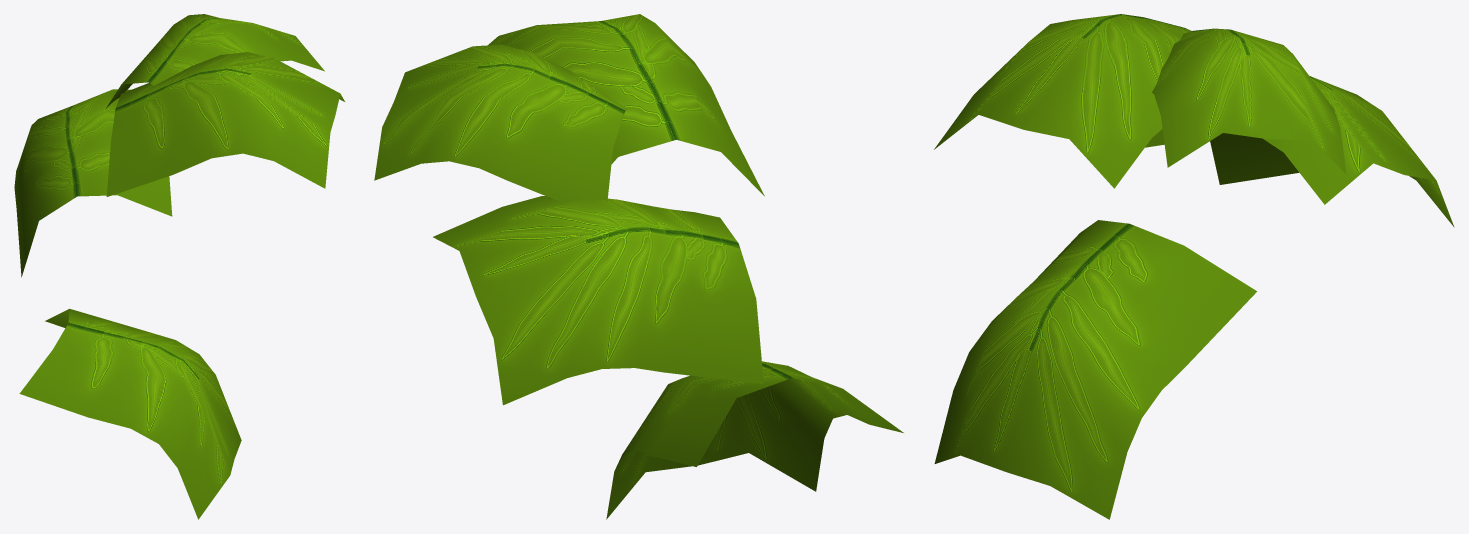
Rendered from BambooSet_part_52.fbx.
3 renders of one model, left to right at view 1: azimuth 30°, elevation 25°; view 2: azimuth 150°, elevation 25°; view 3: azimuth 270°, elevation 25°, orthographic. The views are drawn at different scales.
Visible parts, largest first — view 1: Object_86.001; view 2: Object_86.001; view 3: Object_86.001.
Part boxes in pixels (left/top/right/bottom): Object_86.001: left=14, top=14, right=344, bottom=519; Object_86.001: left=374, top=14, right=903, bottom=519; Object_86.001: left=934, top=14, right=1454, bottom=519.
Bounding box in the file's own units: 382 × 414 × 387.
